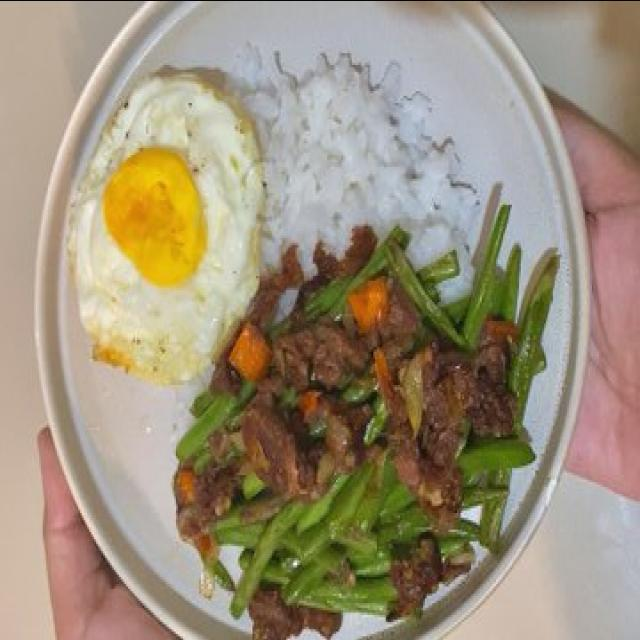telur ceplok: (75, 66, 267, 386)
